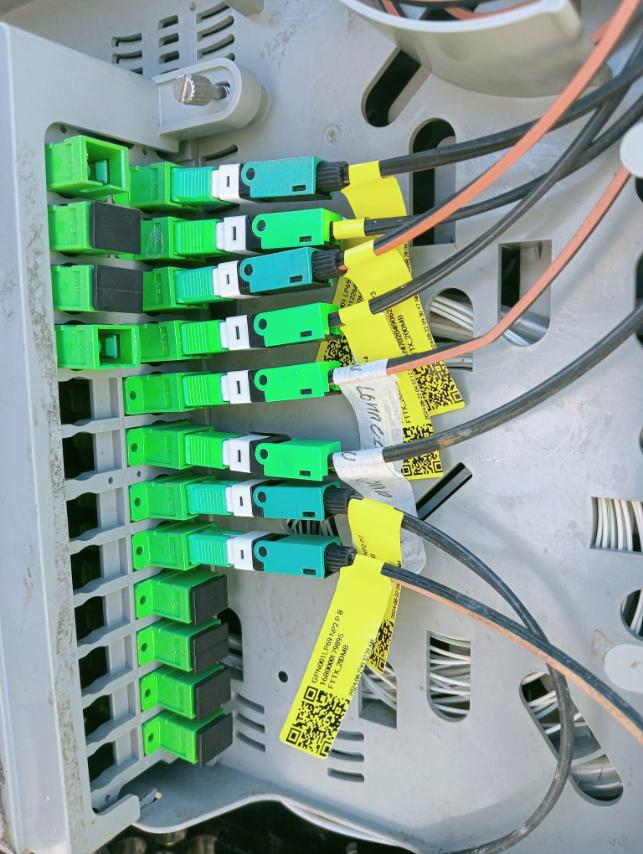no dust cap: (82, 137, 127, 192), (94, 327, 142, 370)
no port: (78, 634, 137, 700), (83, 680, 136, 745), (88, 727, 140, 793), (75, 587, 132, 646), (69, 538, 127, 595), (67, 487, 128, 541), (64, 428, 124, 479), (59, 379, 121, 425)
occupied: (178, 238, 341, 308), (181, 296, 350, 361), (175, 203, 347, 258), (180, 358, 346, 413), (171, 156, 352, 206), (183, 435, 346, 484), (190, 530, 347, 579), (189, 483, 358, 528)
vacant: (94, 269, 143, 317), (96, 203, 143, 253), (196, 713, 234, 769), (192, 620, 230, 675), (195, 670, 231, 718), (192, 573, 228, 619)
